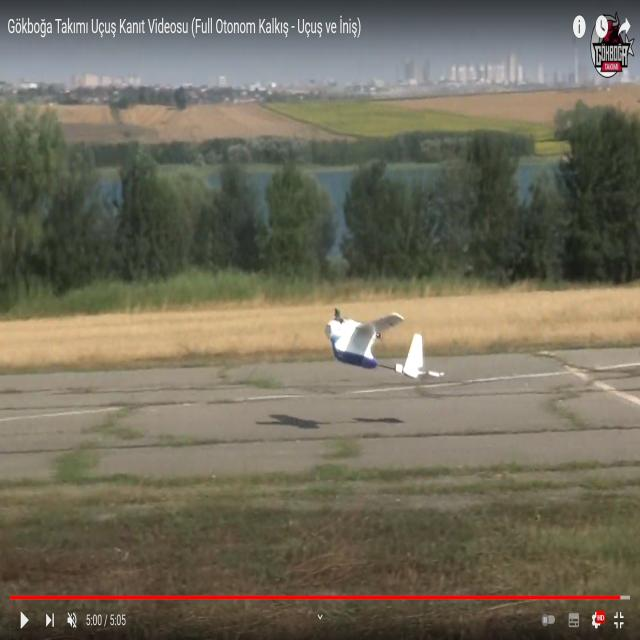iha: (359, 336, 406, 359)
